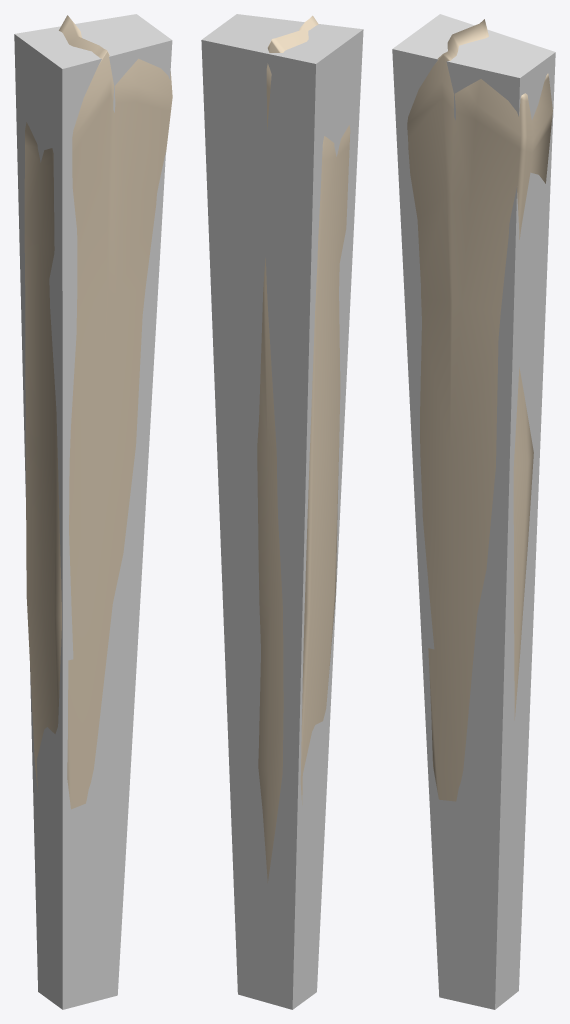
The model's file is wood_A.fbx.
3 views of the same model, side by side, from view 1: azimuth 30°, elevation 25°; view 2: azimuth 150°, elevation 25°; view 3: azimuth 330°, elevation 25° (orthographic).
Parts seen in each view (by area): view 1: wood_A, c_wood_A; view 2: c_wood_A, wood_A; view 3: c_wood_A, wood_A.
Part boxes in pixels (x1,y1,x2,y2): wood_A: (24,15,172,809); c_wood_A: (14,14,172,1009); c_wood_A: (201,14,363,1009); wood_A: (257,15,350,882); c_wood_A: (392,14,555,1009); wood_A: (407,19,552,801).
Size of the model in its own units: 7.33 by 55.88 by 5.16.
